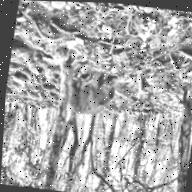boar: (46, 54, 123, 143)
